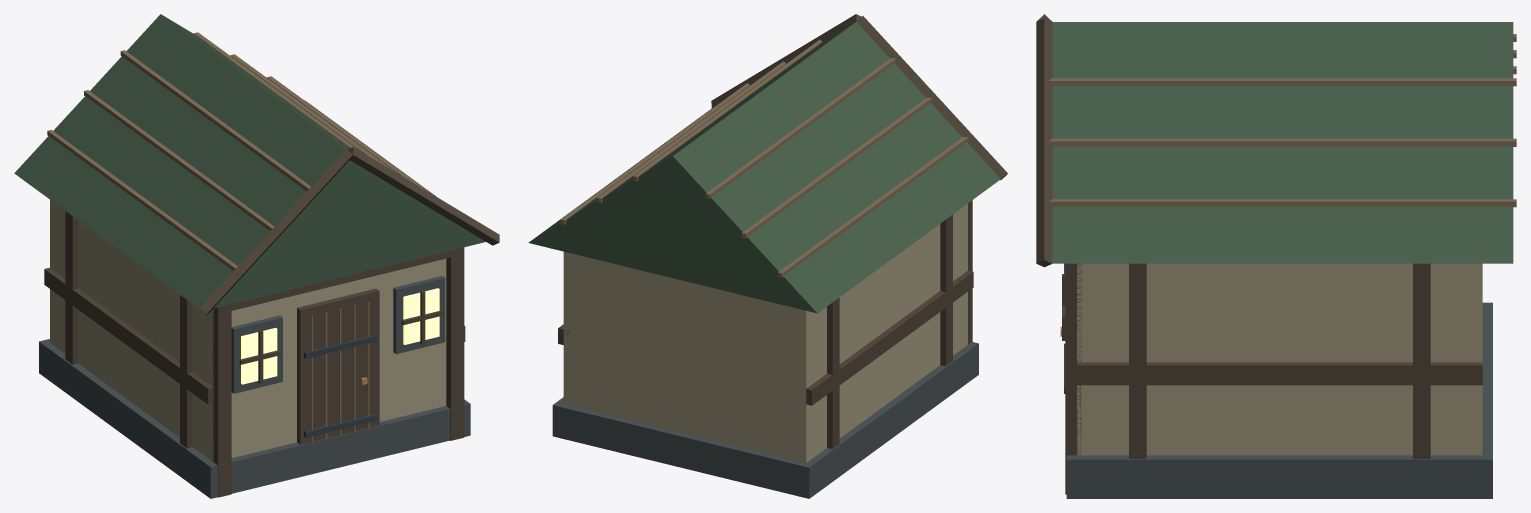
File: BLD_House_03_Woodland.glb
3 views of the same model, side by side, from view 1: azimuth 30°, elevation 25°; view 2: azimuth 150°, elevation 25°; view 3: azimuth 270°, elevation 25° (orthographic). The views are drawn at different scales.
Visible parts, largest first — view 1: BLD_House_03_Woodland; view 2: BLD_House_03_Woodland; view 3: BLD_House_03_Woodland.
Part boxes in pixels (<box>): BLD_House_03_Woodland: <box>14,14,499,498</box>; BLD_House_03_Woodland: <box>528,14,1007,498</box>; BLD_House_03_Woodland: <box>1036,14,1516,498</box>.
Size of the model in its own units: 3.18 by 3.3 by 3.55.
